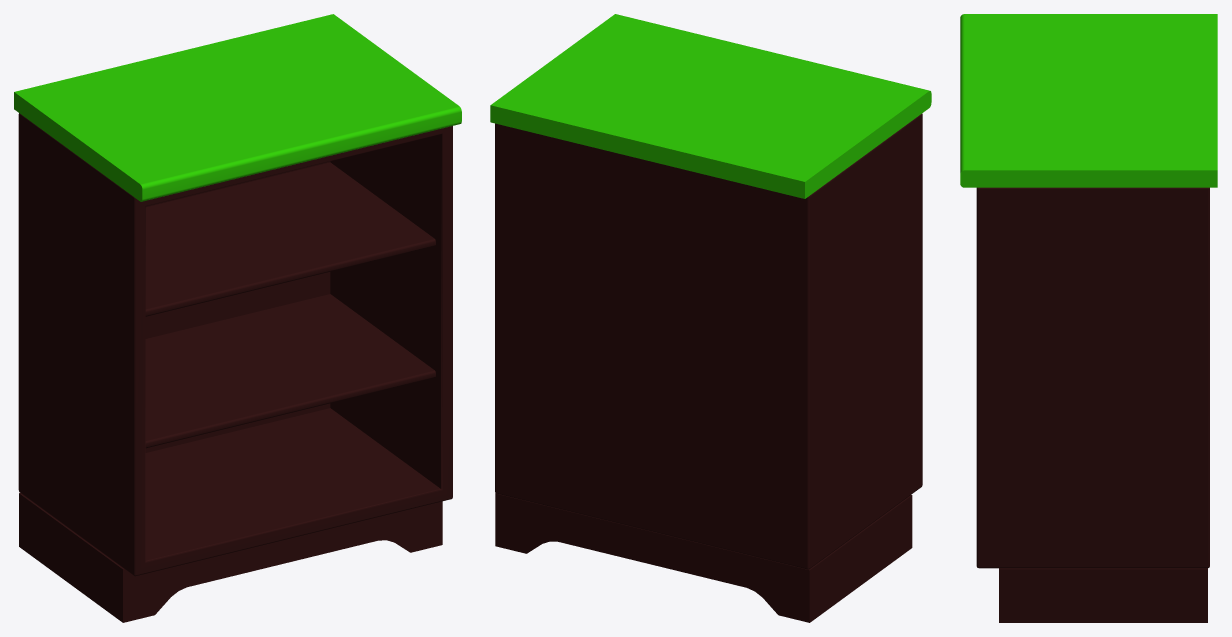
Rendered from kuchnia_04_szafka_stojaca.fbx.
3 views of the same model, side by side, from view 1: azimuth 30°, elevation 25°; view 2: azimuth 150°, elevation 25°; view 3: azimuth 270°, elevation 25° (orthographic).
Parts seen in each view (by area): view 1: Mesh; view 2: Mesh; view 3: Mesh.
Part boxes in pixels (x1,y1,x2,y2): Mesh: [14, 14, 461, 622]; Mesh: [490, 14, 931, 622]; Mesh: [960, 14, 1217, 622].
Size of the model in its own units: 100 by 135 by 69.6.
